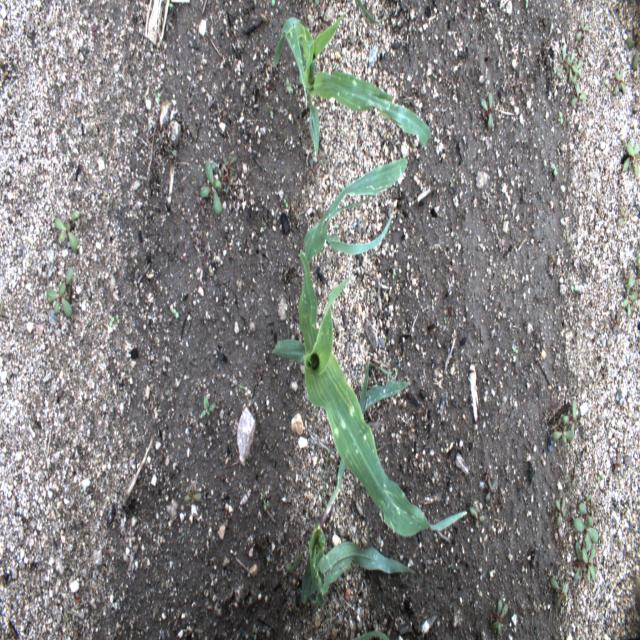crop: (272, 158, 468, 538), (271, 16, 432, 162), (298, 526, 415, 603)
weed: (195, 152, 240, 213), (572, 492, 599, 585), (41, 265, 75, 321), (549, 394, 584, 448), (558, 40, 585, 107), (53, 209, 81, 257), (548, 569, 572, 613), (620, 274, 638, 321), (492, 588, 510, 634), (609, 65, 628, 107), (184, 479, 203, 514), (622, 134, 638, 175), (477, 96, 496, 130), (608, 304, 627, 338), (355, 623, 401, 637), (484, 469, 499, 503), (199, 394, 215, 424), (554, 495, 566, 534), (576, 17, 596, 39), (614, 209, 630, 235), (627, 30, 637, 71), (551, 153, 562, 186), (168, 300, 180, 328), (470, 504, 484, 528), (612, 450, 622, 479), (286, 74, 296, 90)
